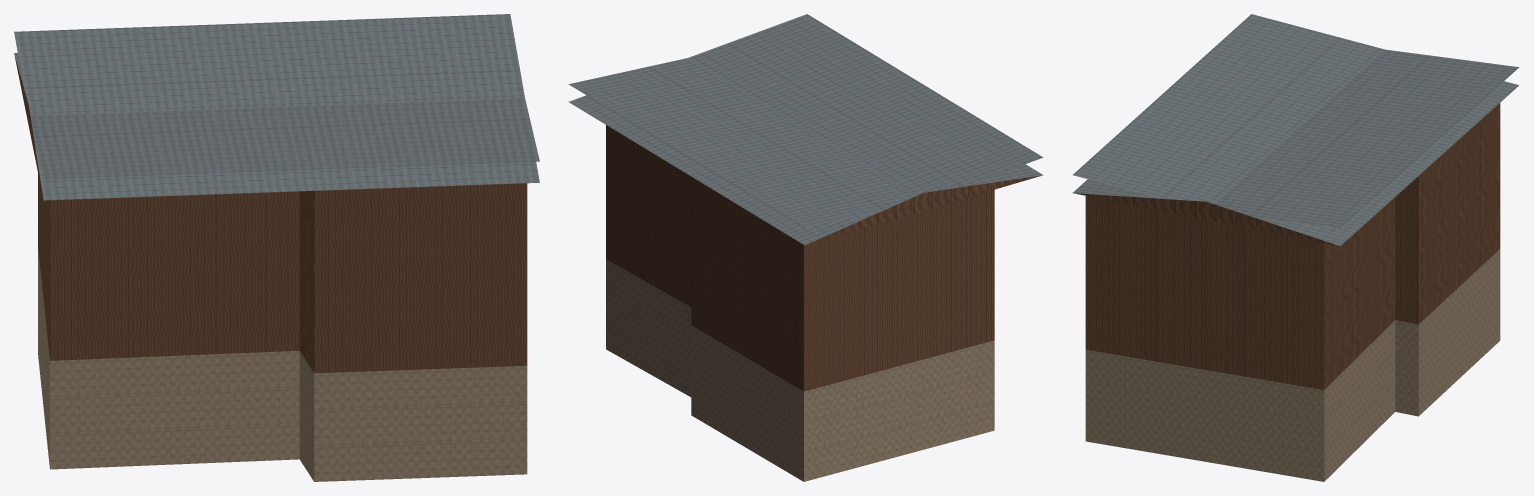
File: bld_c11_8_519.gltf
3 renders of one model, left to right at view 1: azimuth 30°, elevation 25°; view 2: azimuth 150°, elevation 25°; view 3: azimuth 270°, elevation 25°, orthographic. The views are drawn at different scales.
Parts seen in each view (by area): view 1: bld_c11_8_519; view 2: bld_c11_8_519; view 3: bld_c11_8_519.
Part boxes in pixels (<box>): bld_c11_8_519: <box>14,14,539,481</box>; bld_c11_8_519: <box>568,14,1043,481</box>; bld_c11_8_519: <box>1073,14,1519,481</box>.
Size of the model in its own units: 25.52 by 14.9 by 22.5.
Materials: 4 (4 with a texture image).
